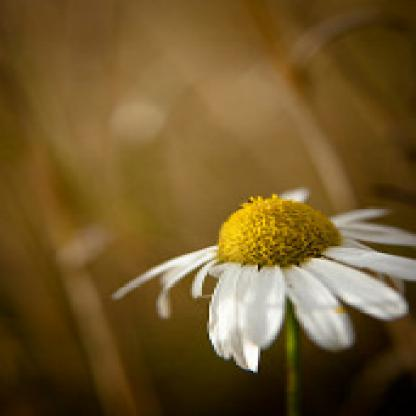ASTER: (101, 176, 415, 396)
